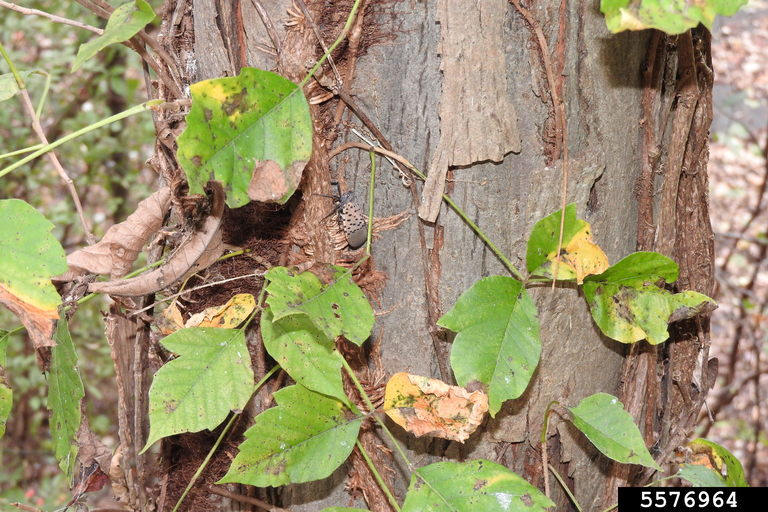Spotted Lantern Fly: (312, 182, 380, 260)
